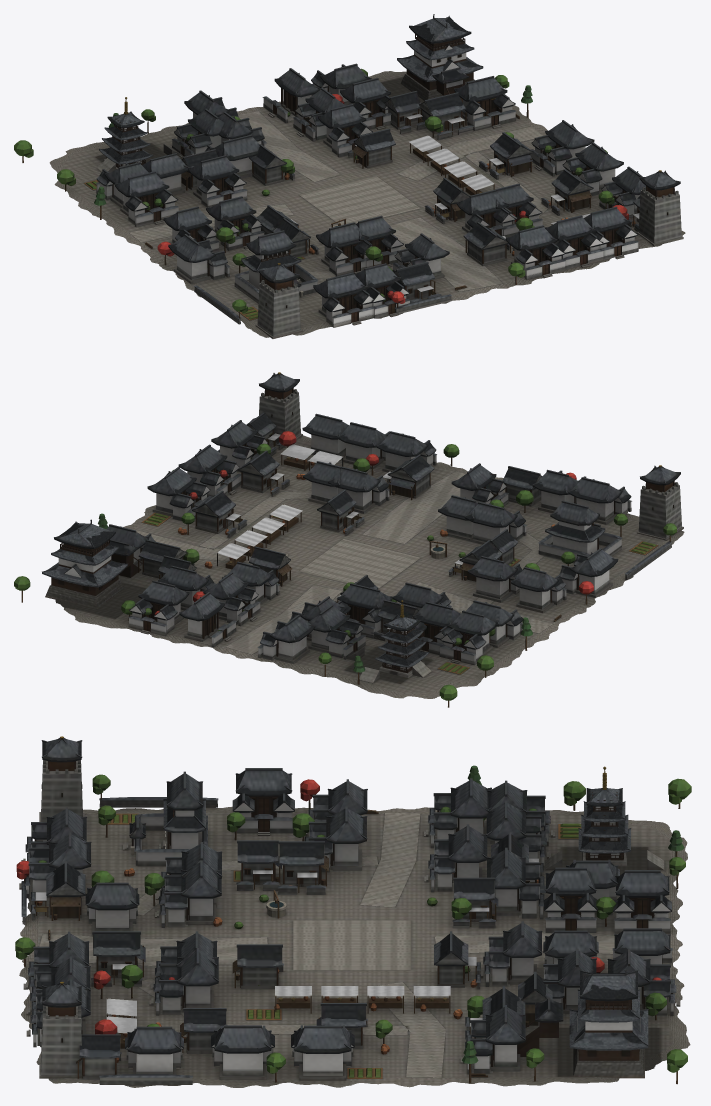
File: kingdoms-town-big-a-japan.glb
3 views of the same model, one above another, from view 1: azimuth 30°, elevation 25°; view 2: azimuth 150°, elevation 25°; view 3: azimuth 270°, elevation 25° (orthographic). The views are drawn at different scales.
Parts seen in each view (by area): view 1: LOD0; view 2: LOD0; view 3: LOD0.
Boxes of the visible parts, x1,y1,x2,y2 form: LOD0: [14, 14, 685, 338]; LOD0: [14, 372, 684, 707]; LOD0: [15, 736, 691, 1087].
Size of what is drawn, in the model's own units: 8.05 by 1.21 by 8.12.
Materials: 3 (3 with a texture image).
